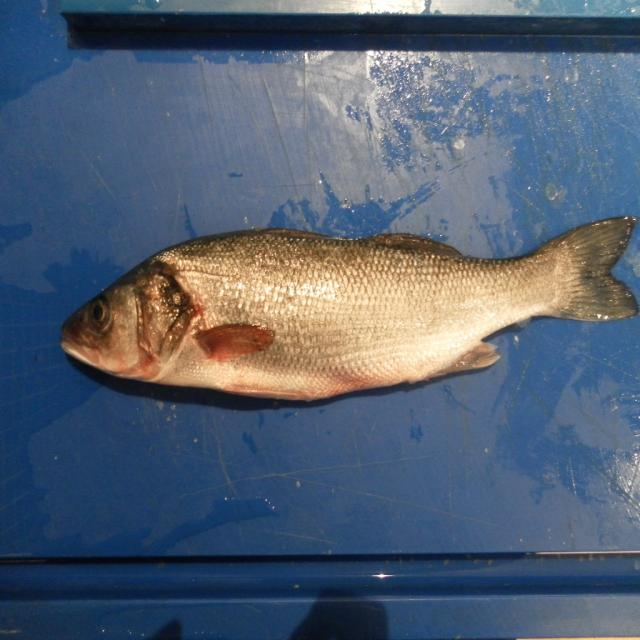Sea-Bass-levrek-: (59, 215, 640, 407)
